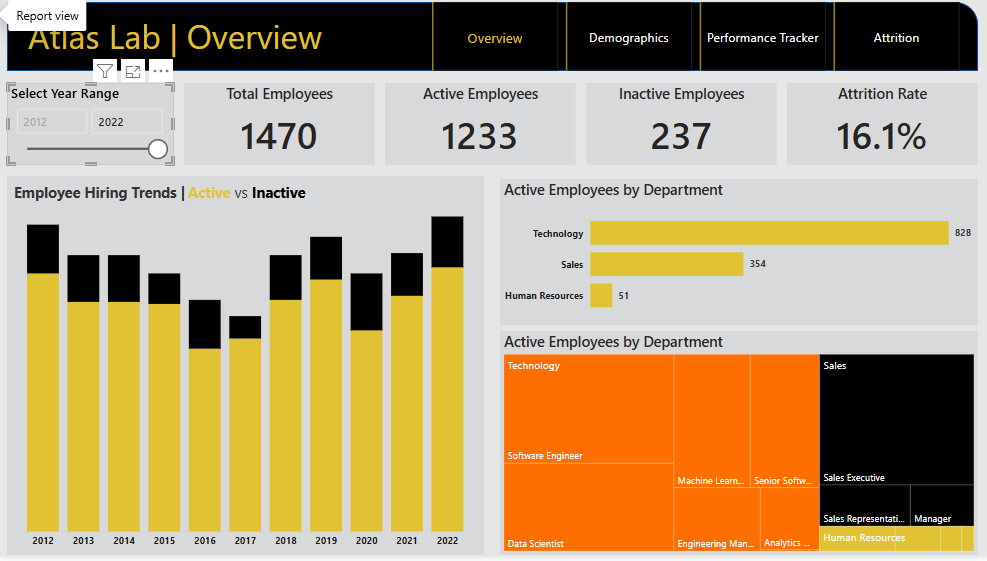

What the dashboard file says about the page in this screenshot:
{"tool":"powerbi","page":{"name":"Overview","canvas":[1280,720],"ordinal":0},"visuals":[{"type":"shape","box":[14.1,9,1247.9,88.7],"z":0},{"type":"card","title":"Inactive Employees","fields":{"Values":["_Measures.InactiveEmployeesDate"]},"box":[758.2,113.1,245.5,105.4],"z":1000},{"type":"card","title":"Total Employees","fields":{"Values":["_Measures.TotalEmployeesDate"]},"box":[241.6,113.1,245.5,105.4],"z":2000},{"type":"card","title":"Active Employees","fields":{"Values":["_Measures.ActiveEmployeesDate"]},"box":[499.9,113.1,245.5,105.4],"z":3000},{"type":"card","title":"Attrition Rate","fields":{"Values":["_Measures.%AttritionRateDate"]},"box":[1016.5,113.1,245.5,105.4],"z":4000},{"type":"columnChart","title":".","fields":{"Y":["_Measures.TotalEmployeesDate"],"Category":["Dim_Date.Year"],"Series":["Dim_Employee.Attrition"]},"box":[14.1,232.6,613,487.1],"z":5000},{"type":"clusteredBarChart","title":"Active Employees by Department","fields":{"Category":["Dim_Employee.Department"],"Y":["_Measures.ActiveEmployeesDate"]},"box":[647.7,236.5,614.3,187.6],"z":6000},{"type":"treemap","title":"Active Employees by Department","fields":{"Group":["Dim_Employee.Department"],"Details":["Dim_Employee.JobRole"],"Values":["_Measures.ActiveEmployeesDate"]},"box":[647.7,431.8,614.3,287.9],"z":7000},{"type":"pageNavigator","box":[560.3,9,681.1,88.7],"z":8000},{"type":"textbox","box":[36,18,439.5,70.7],"z":9000},{"type":"textbox","box":[18,236.5,403.5,43.7],"z":10000},{"type":"slicer","title":"Select Year Range","fields":{"Values":["Dim_Date.Year"]},"box":[14.1,113.1,214.6,105.4],"z":11000}]}

Visuals, with their boxes on the page's 1280x720 design canvas (x1, y1, x2, y2). These are canvas units, not pixel positions in the 987x561 screenshot, which may show the page scaled, cropped or inside an application window:
shape: (14, 9, 1262, 98)
"Inactive Employees" card: (758, 113, 1004, 218)
"Total Employees" card: (242, 113, 487, 218)
"Active Employees" card: (500, 113, 745, 218)
"Attrition Rate" card: (1016, 113, 1262, 218)
"." columnChart: (14, 233, 627, 720)
"Active Employees by Department" clusteredBarChart: (648, 236, 1262, 424)
"Active Employees by Department" treemap: (648, 432, 1262, 720)
pageNavigator: (560, 9, 1241, 98)
textbox: (36, 18, 476, 89)
textbox: (18, 236, 422, 280)
"Select Year Range" slicer: (14, 113, 229, 218)
